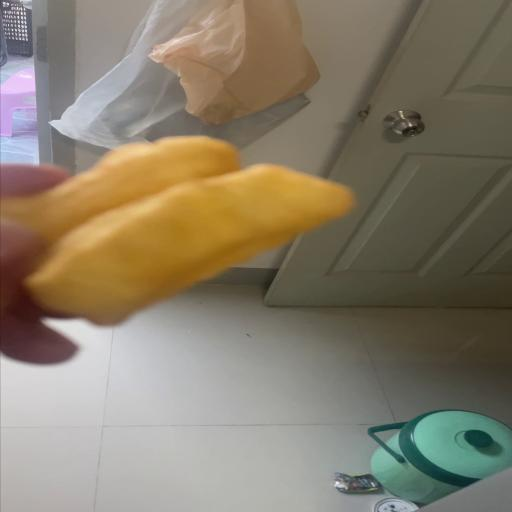street_golden_good: (2, 137, 352, 325)
